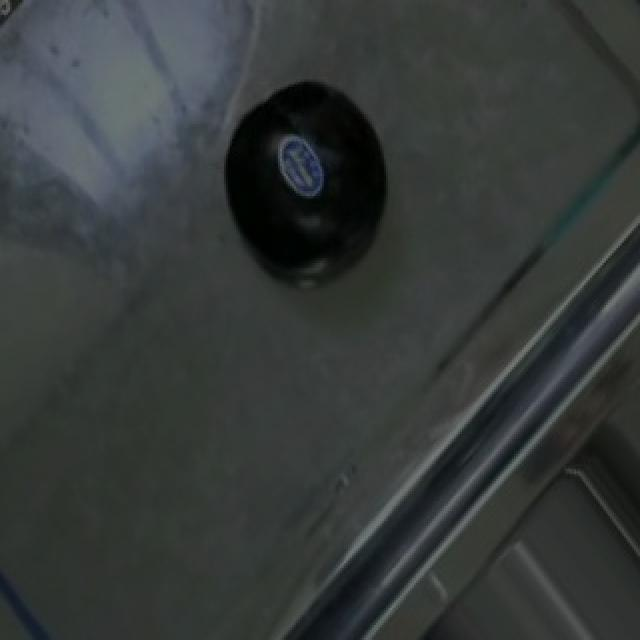Fruit: (204, 97, 360, 285), (0, 0, 42, 50)
